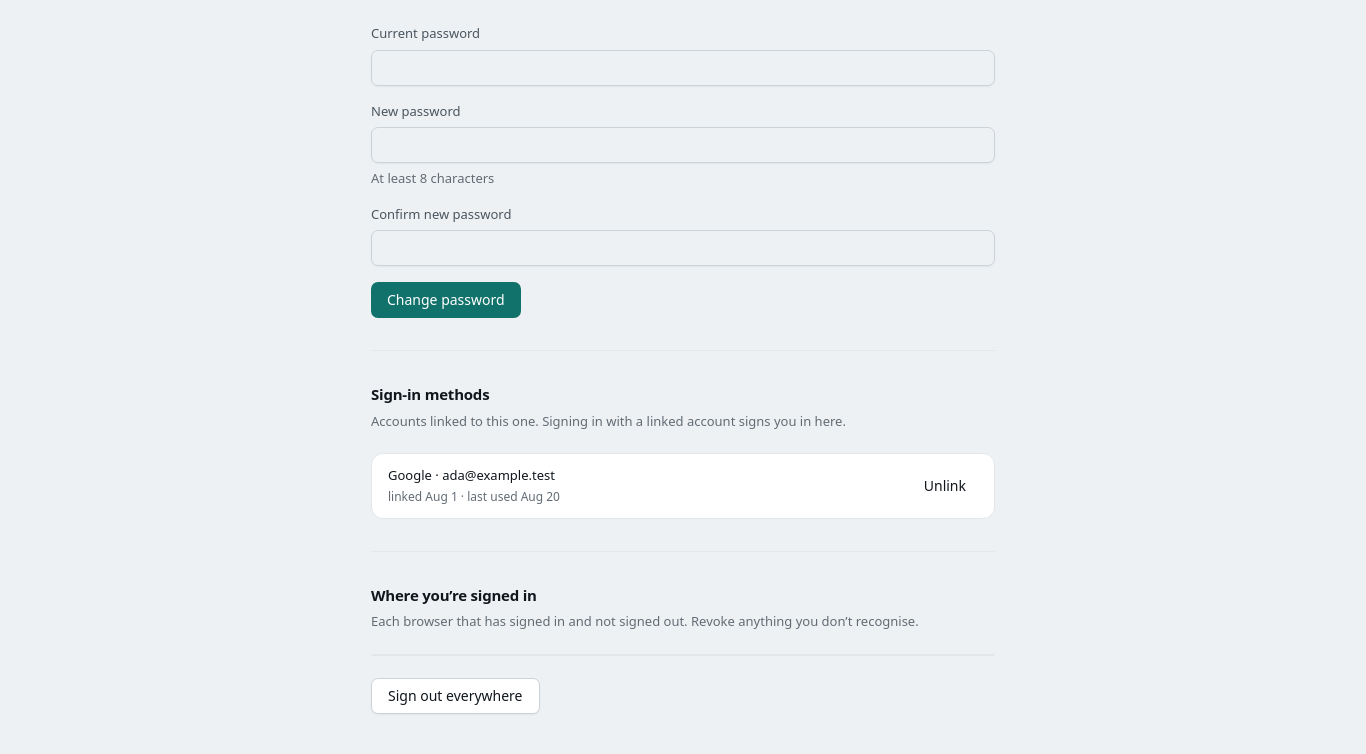
Scenario: unlinking › asks first, and asks the server nothing until the answer is yes
(page scrolled)
Click the button "Unlink" at (945, 486), box left=912, top=470, right=978, bottom=502
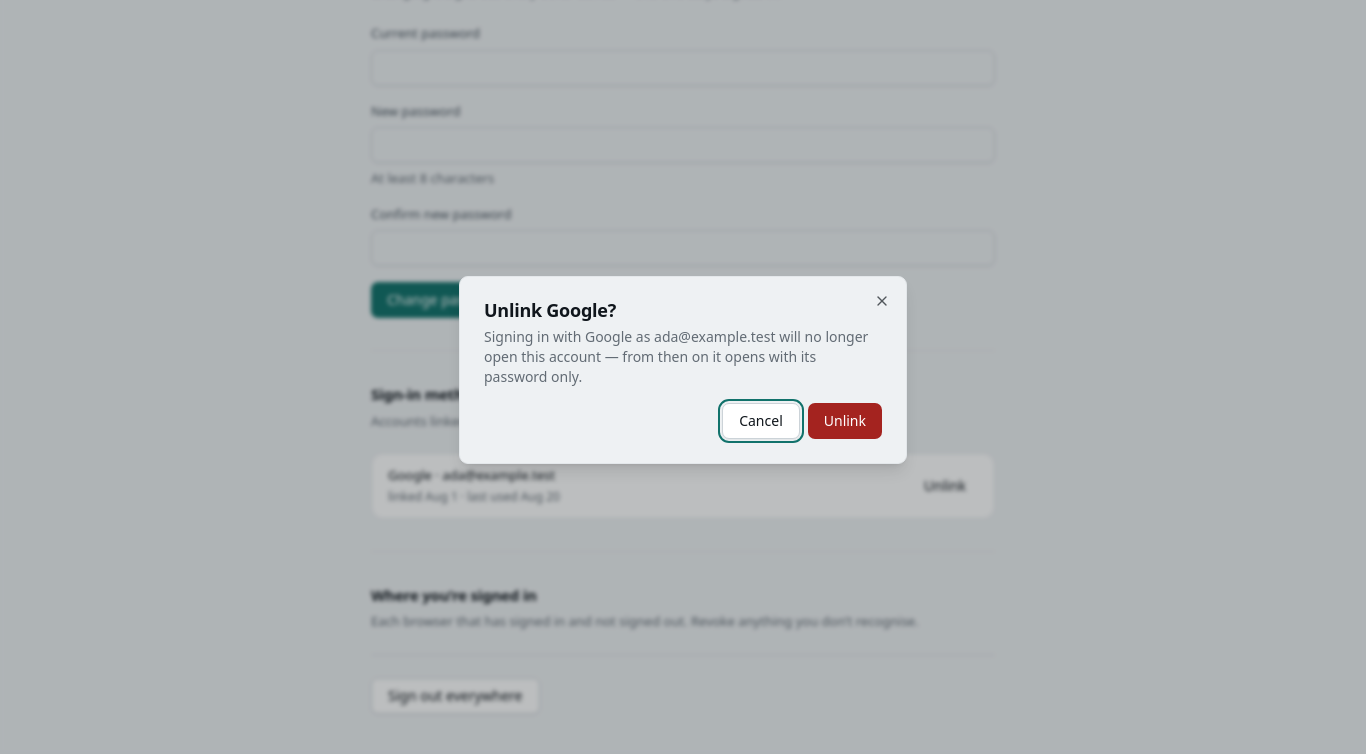
Now the heading "Unlink Google?" is shown, box left=484, top=298, right=616, bottom=322
Now the text "ada@example.test" is shown, box left=654, top=327, right=776, bottom=346
Click the button "Cancel" at (761, 421), box left=722, top=403, right=800, bottom=439
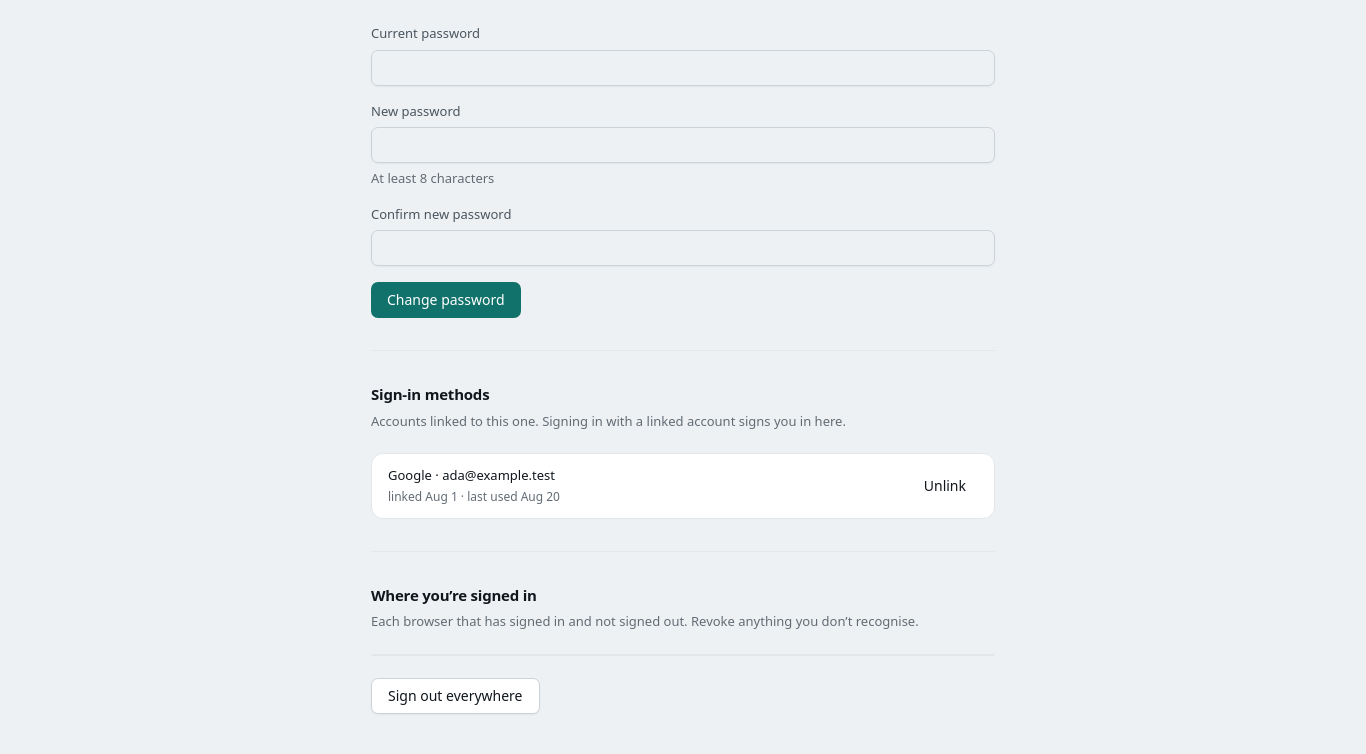
Expected: the list item is shown, left=372, top=454, right=994, bottom=518
Now the dialog is gone
